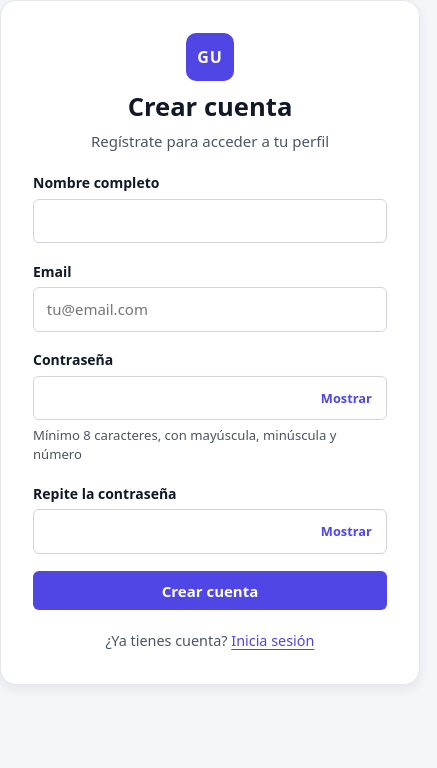
Test case: RegisterView › muestra el error general cuando la API no devuelve detalles por campo
In the field with test id "register-name": [210, 221] box [33,199,387,243], type "Nueva Persona"
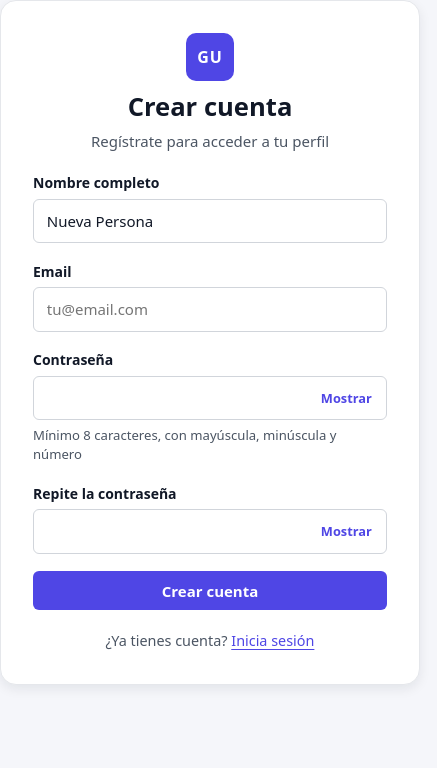
In the field with test id "register-email": [210, 310] box [33,287,387,332], type "nueva@demo.com"
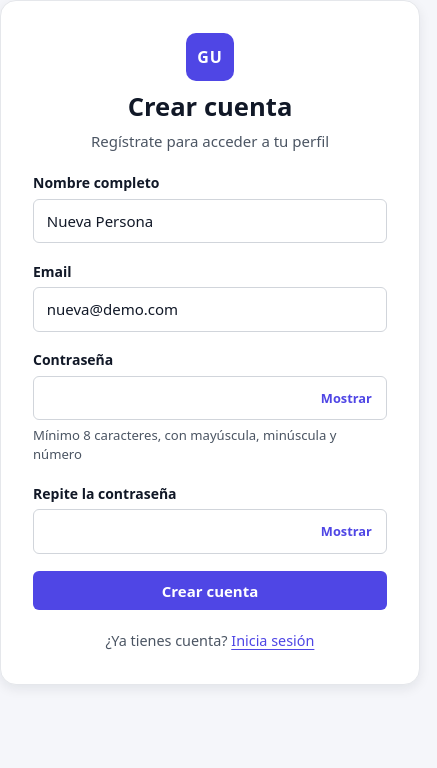
In the password field with test id "register-password": [210, 398] box [33,376,387,420], type "Password123"
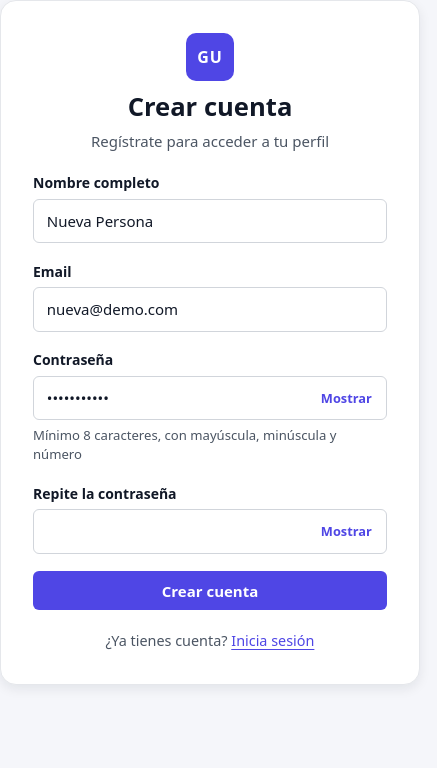
In the password field with test id "register-confirmation": [210, 531] box [33,509,387,554], type "Password123"
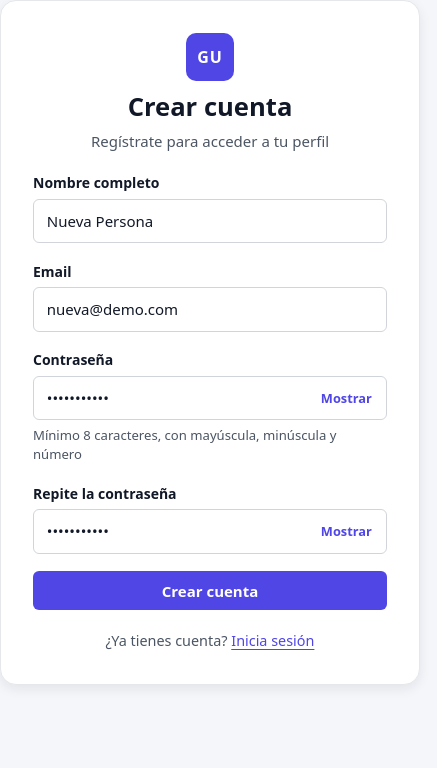
Submit the form with test id "register-form", box [33,172,387,610]
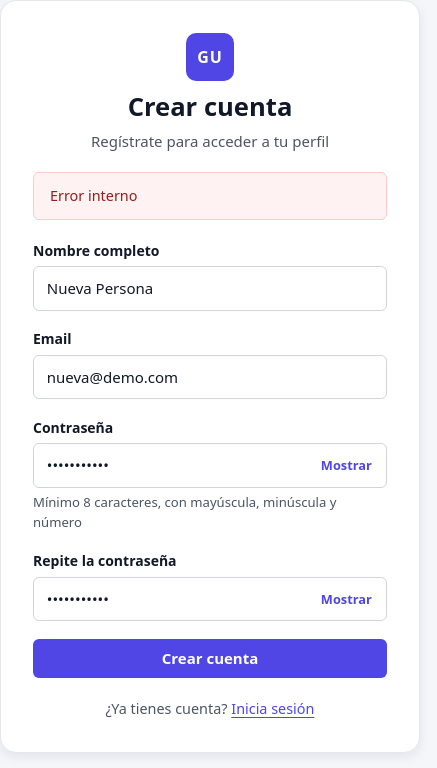
expect the message with test id "alert" reads "Error interno": met, box [50,186,138,205]
